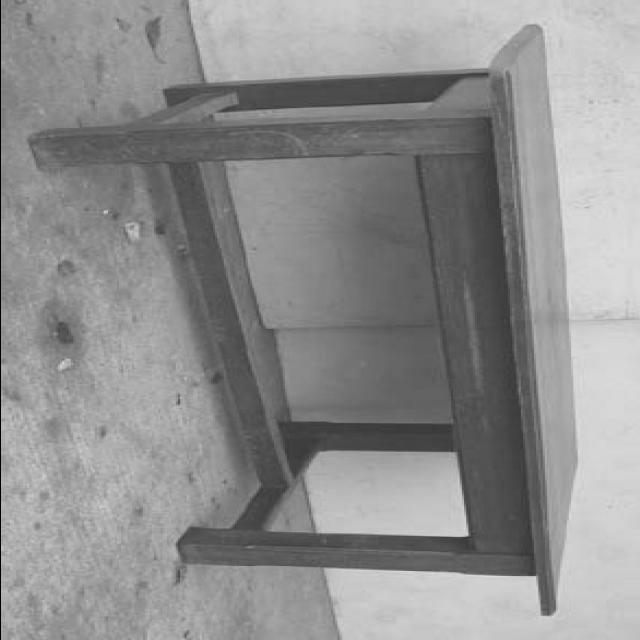table: (28, 24, 576, 618)
